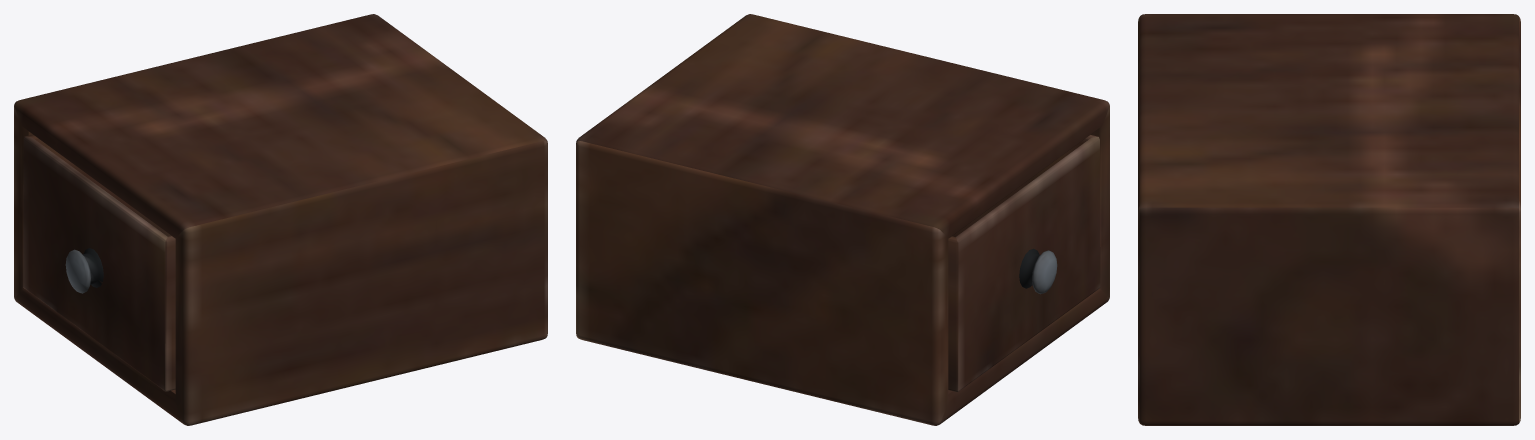
Rendered from SM_TillFrame_Single.fbx.
The picture shows the model from 3 angles, left to right: view 1: azimuth 30°, elevation 25°; view 2: azimuth 150°, elevation 25°; view 3: azimuth 270°, elevation 25°; orthographic projection. The views are drawn at different scales.
Parts seen in each view (by area): view 1: SM_TillFrame_Single_LOD0; view 2: SM_TillFrame_Single_LOD0; view 3: SM_TillFrame_Single_LOD0.
Boxes of the visible parts, x1,y1,x2,y2 form: SM_TillFrame_Single_LOD0: [14, 14, 547, 425]; SM_TillFrame_Single_LOD0: [576, 14, 1109, 425]; SM_TillFrame_Single_LOD0: [1138, 14, 1520, 425].
Size of the model in its own units: 31.96 by 24.73 by 15.79.
Materials: 1 (1 with a texture image).
